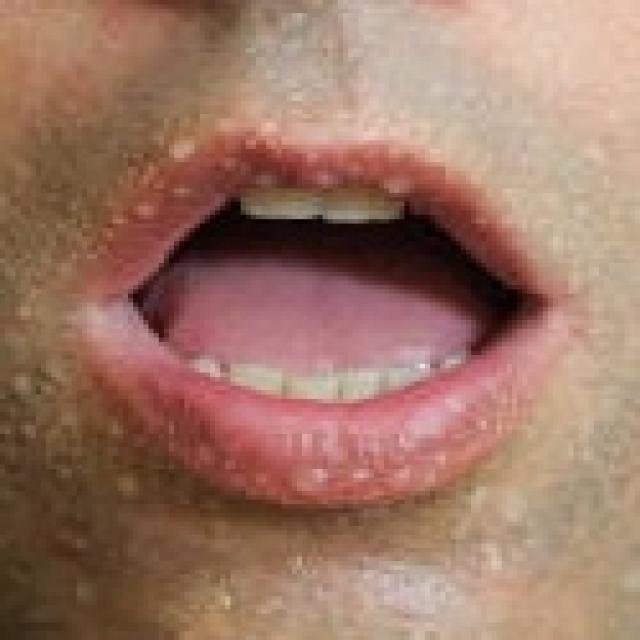open-mouth: (61, 118, 574, 513)
